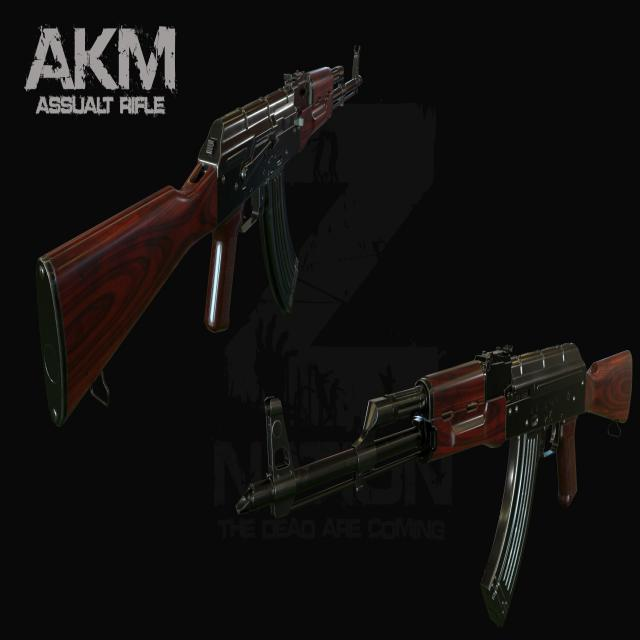weapon: (39, 34, 366, 442), (234, 334, 636, 638)
